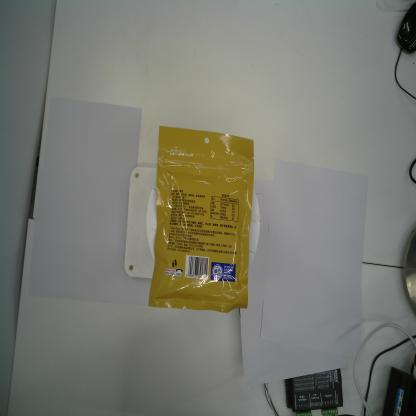Dried Fruit: (148, 125, 255, 313)
